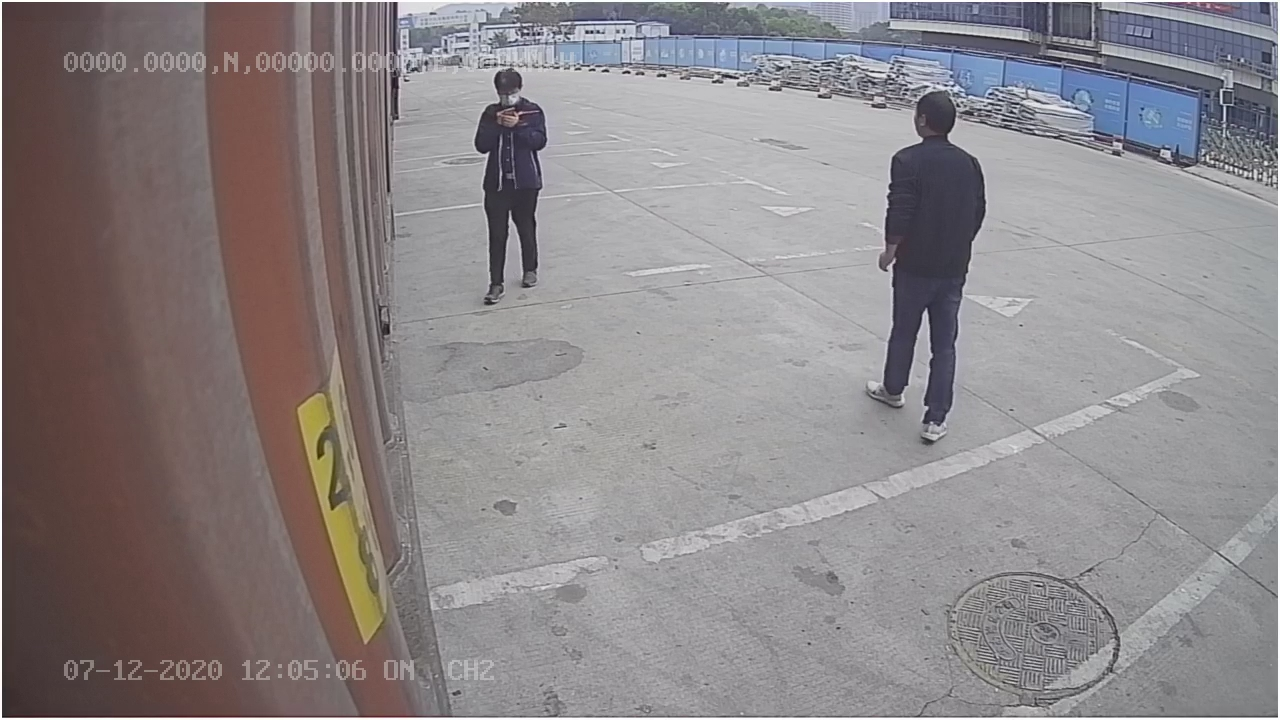person: (862, 82, 989, 443), (467, 69, 555, 306)
